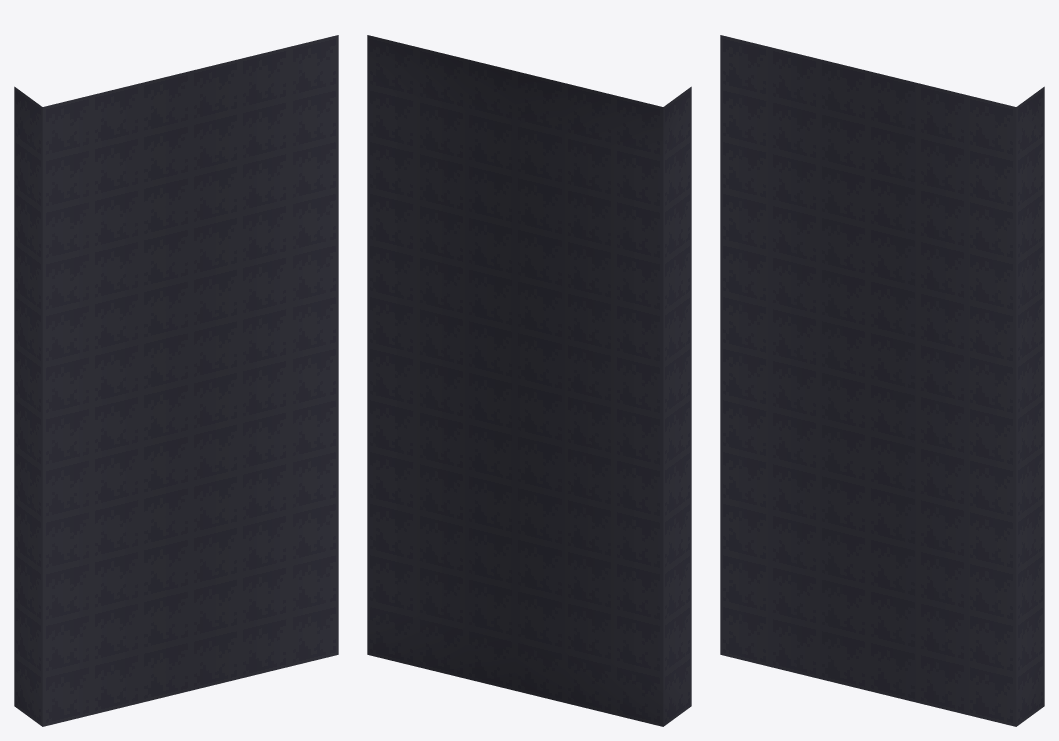
Rendered from museumDoor.glb.
3 views of the same model, side by side, from view 1: azimuth 30°, elevation 25°; view 2: azimuth 150°, elevation 25°; view 3: azimuth 330°, elevation 25° (orthographic).
Size of the model in its own units: 6 by 12 by 1.
Materials: 1 (1 with a texture image).
